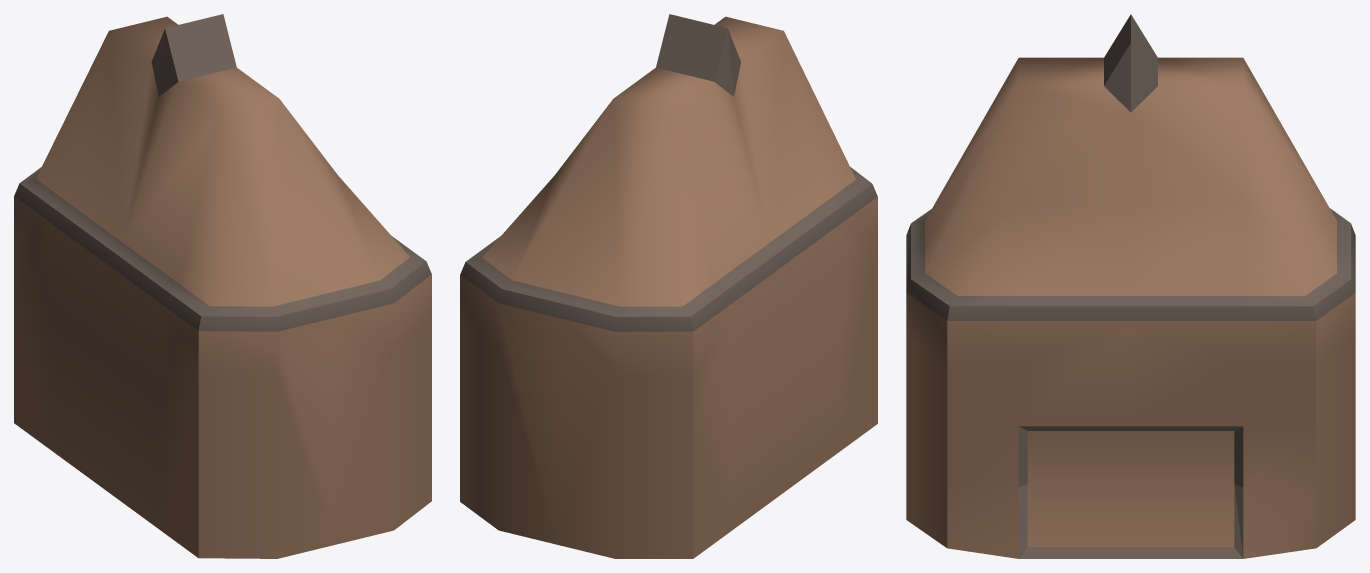
File: Ruins 13.fbx
3 renders of one model, left to right at view 1: azimuth 30°, elevation 25°; view 2: azimuth 150°, elevation 25°; view 3: azimuth 270°, elevation 25°, orthographic.
Visible parts, largest first — view 1: Ruins 13; view 2: Ruins 13; view 3: Ruins 13.
Part boxes in pixels (bbox=[...]): Ruins 13: bbox=[14, 14, 431, 558]; Ruins 13: bbox=[460, 14, 877, 558]; Ruins 13: bbox=[906, 14, 1355, 558].
Size of the model in its own units: 32.79 by 55.1 by 50.
2 materials, 2 textured.
